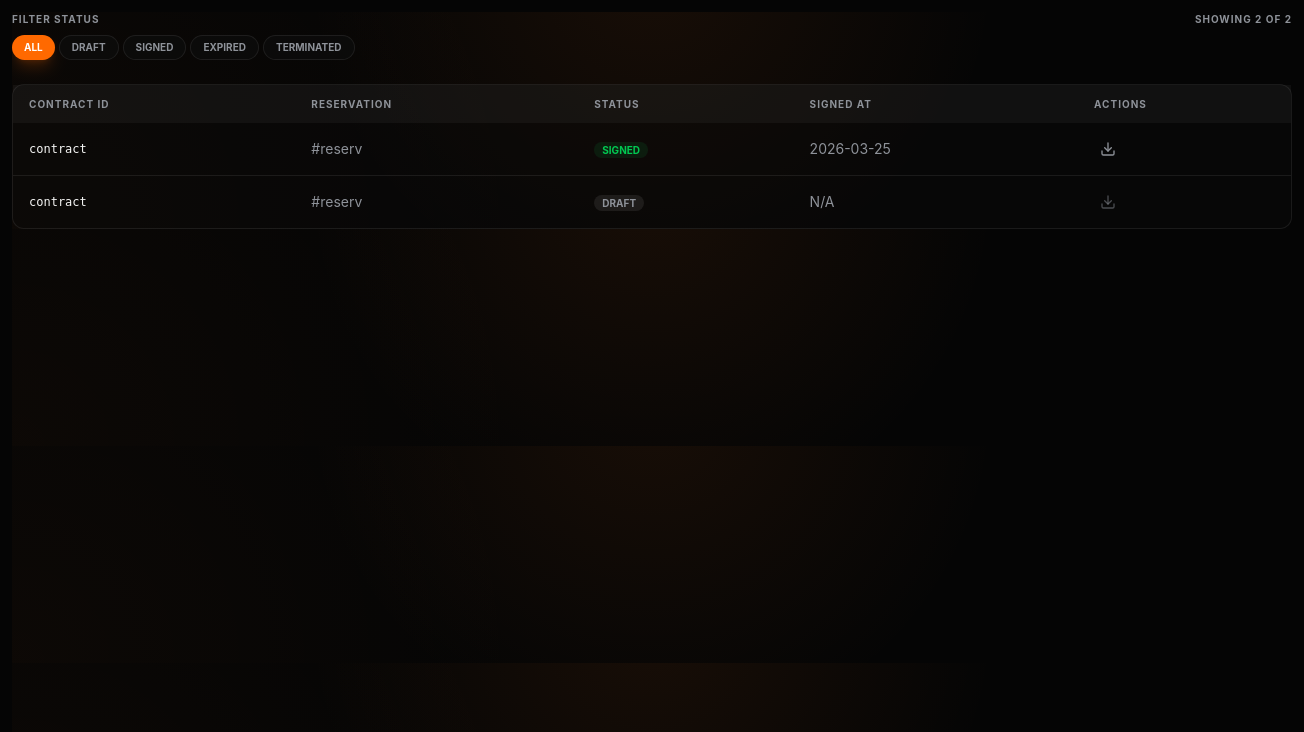
it: ContractModule › renders the unavailable action when a contract document is missing
Click the button "draft" at coordinates (89, 48), box [59,35,119,60]
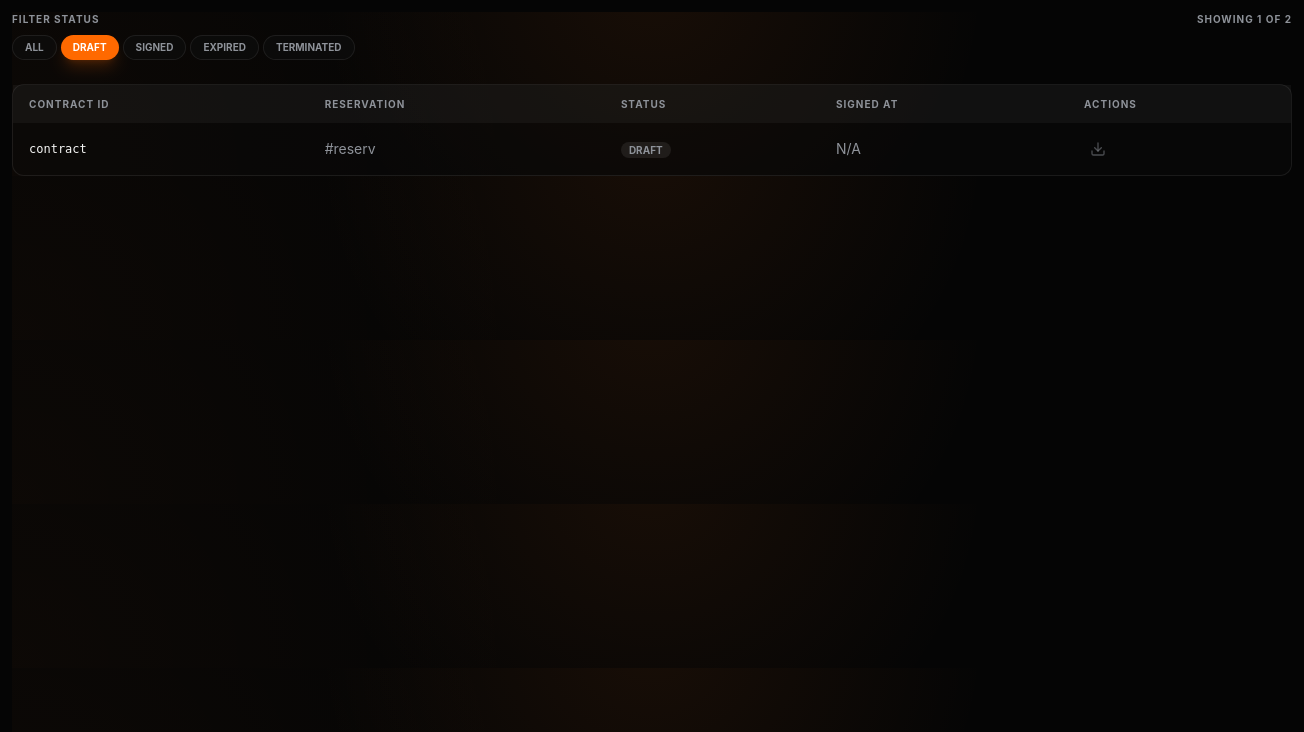
Expected: the button named "Contract document unavailable" is disabled, [1084,135,1112,163]
Result: the text "Showing 1 of 2" is shown at [1197,12,1292,27]
